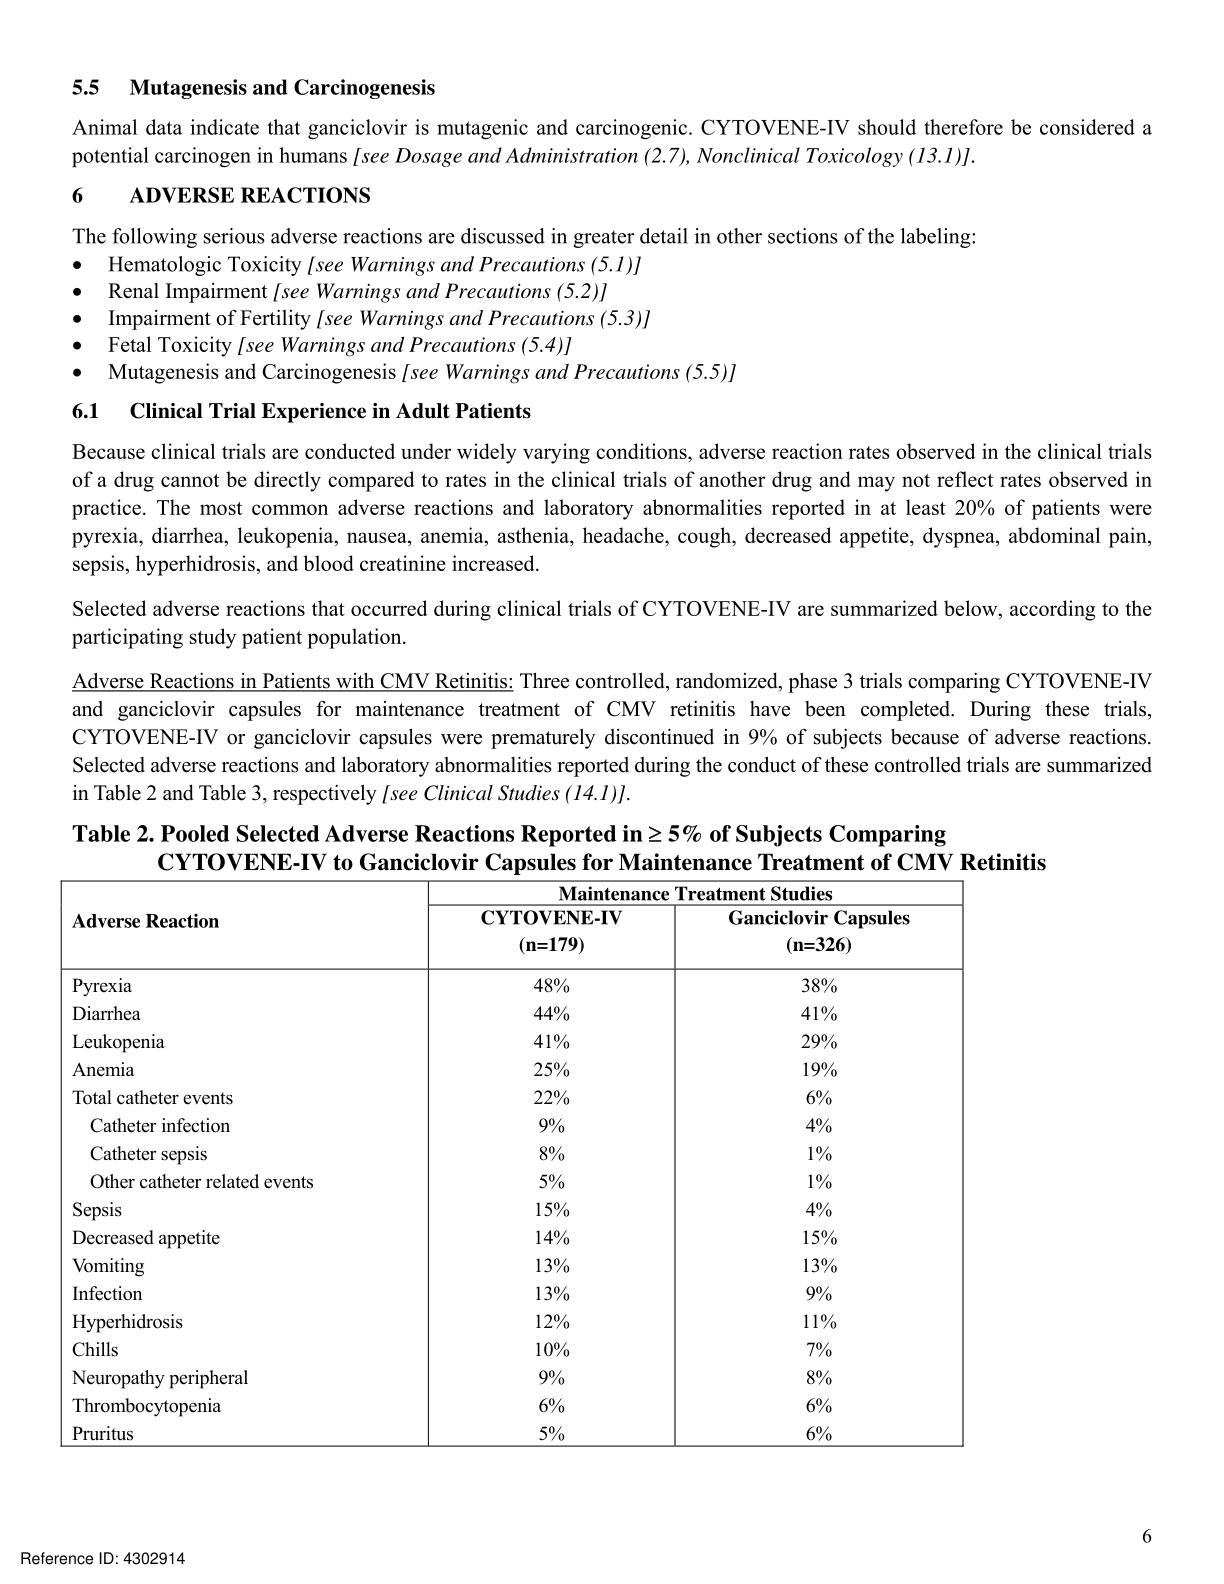merged_cells: (59, 878, 964, 1449)
